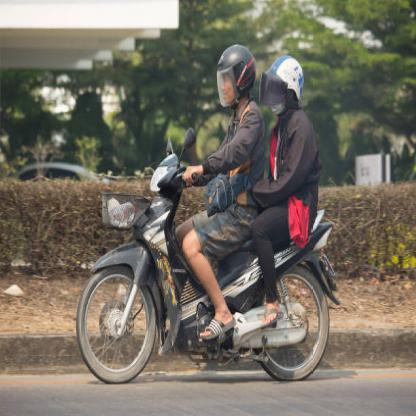Motorcycle: (74, 139, 335, 391)
